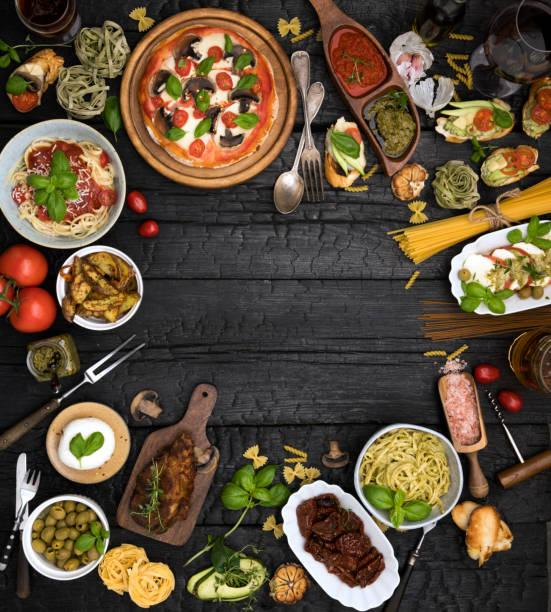Braised Crucian Carp: (119, 8, 295, 191), (114, 381, 219, 544), (0, 119, 125, 248), (357, 421, 462, 530)
